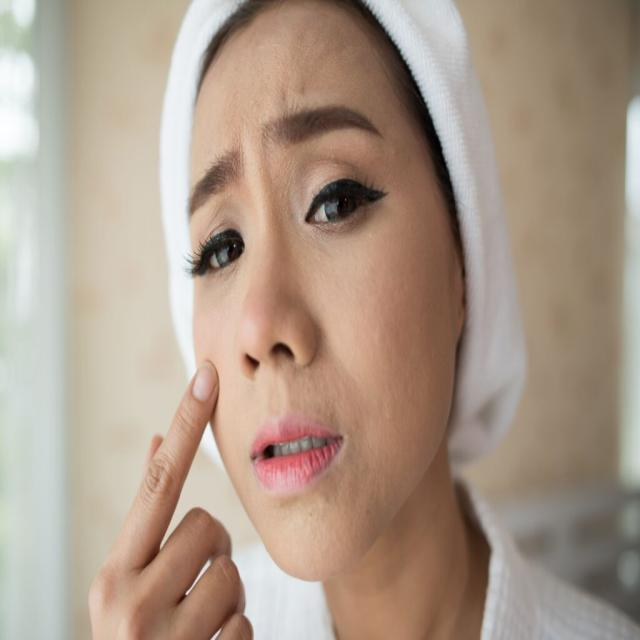Dry-Skin: (262, 18, 449, 572)
